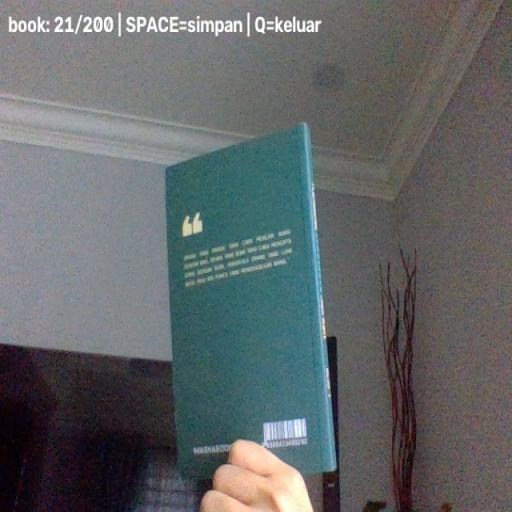Book: (164, 124, 337, 479)
